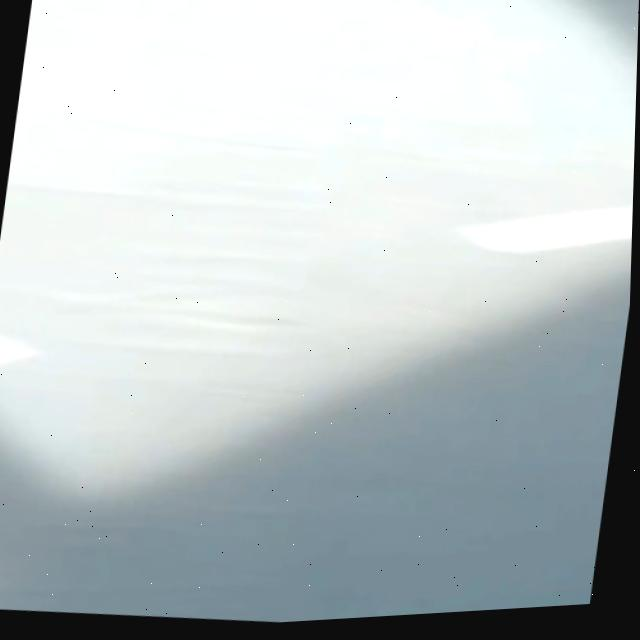center: (461, 206, 633, 251), (0, 334, 36, 362)
